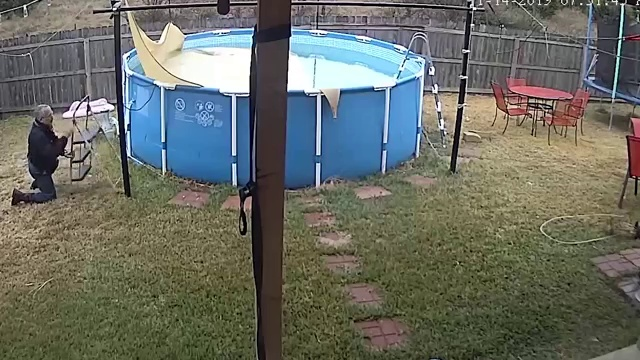face: (41, 109, 55, 126)
